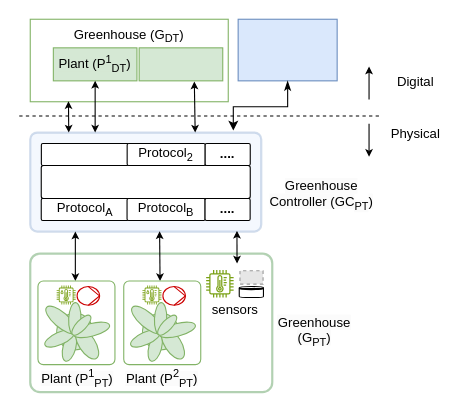
Some shapes in this 469 by 413 pixel diagram are drawn without their labels. Grey dashed boxes stand in for pictures. Here are the shapes that lost their labels. From the top down, the centre of each, then its label:
At pixel 180 64: "Plant (P 2 DT )".
At pixel 287 49: "Greenhouse Controller (GC DT )".
At pixel 84 154: "Protocol 1".
At pixel 145 181: "Controller Module".
